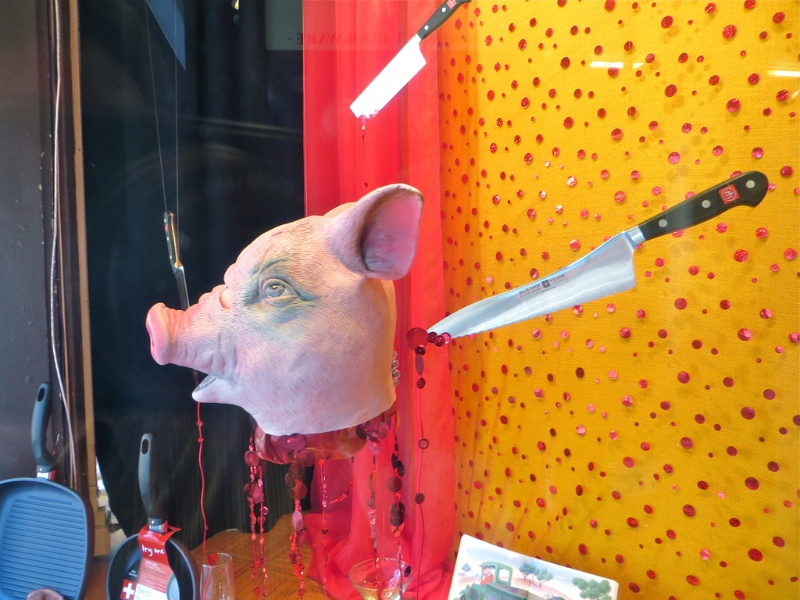knife: (425, 168, 774, 346), (343, 1, 481, 123)
